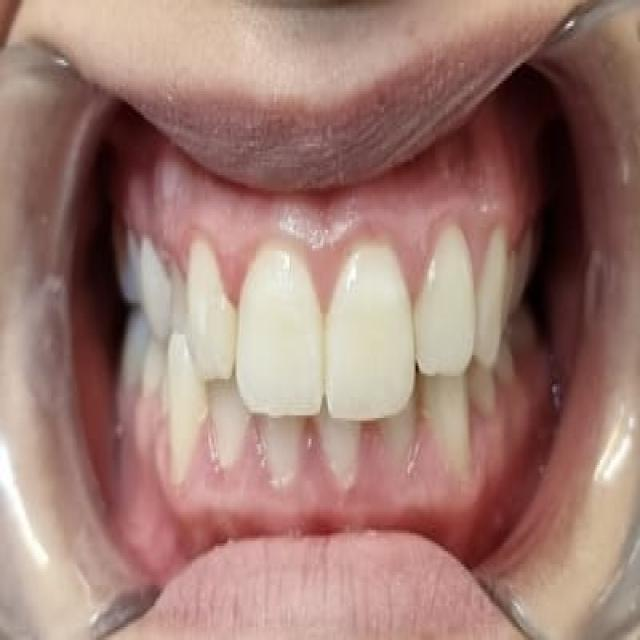tooth: (322, 217, 419, 418), (238, 238, 320, 415), (420, 217, 470, 376), (192, 235, 234, 374), (171, 334, 203, 478), (251, 415, 320, 478), (210, 381, 251, 478), (488, 227, 518, 345), (144, 332, 173, 412), (110, 227, 140, 303), (322, 418, 358, 475), (114, 308, 134, 410), (386, 413, 419, 465), (140, 266, 170, 314), (470, 376, 502, 413), (170, 266, 179, 334)
